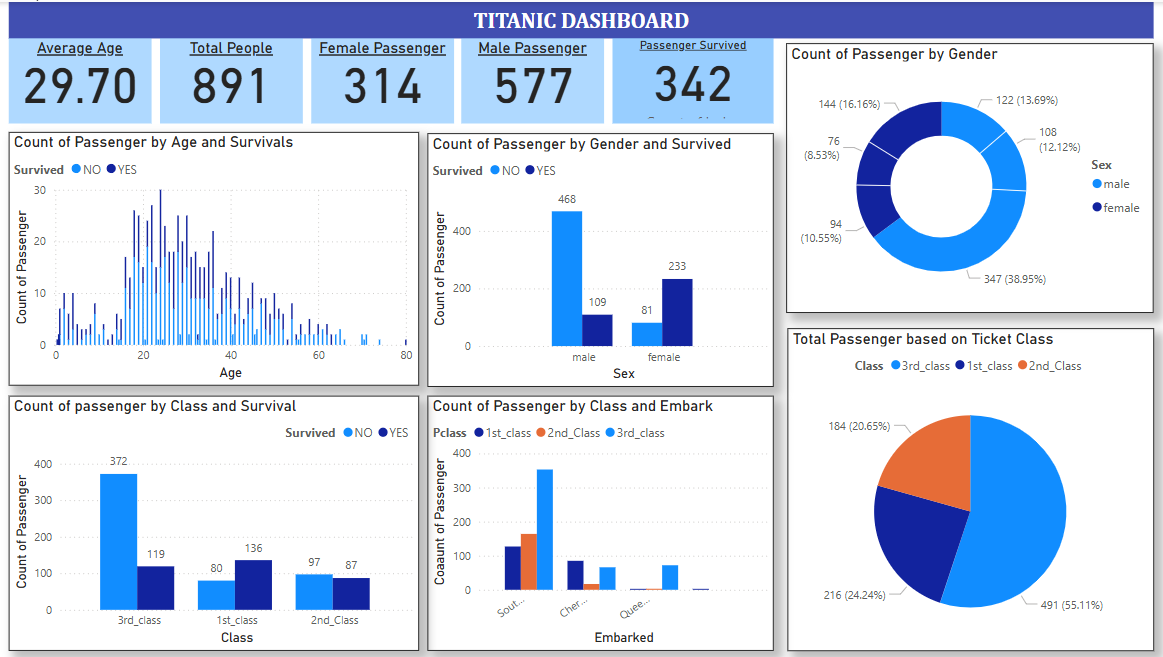

What the dashboard file says about the page in this screenshot:
{"tool":"powerbi","page":{"name":"Page 1","canvas":[1280,720],"ordinal":0},"visuals":[{"type":"textbox","box":[9.6,0,1257,39.8],"z":0},{"type":"card","title":"Average Age","fields":{"Values":["Avg(titanic.Age)"]},"box":[9.6,39.8,156.4,93.3],"z":1000},{"type":"card","title":"Total People","fields":{"Values":["CountNonNull(titanic.Index)"]},"box":[175.6,39.8,156.4,93.3],"z":2000},{"type":"card","title":"Female Passenger","fields":{"Values":["CountNonNull(titanic.Index)"]},"box":[341.7,39.8,156.4,93.3],"z":3000},{"type":"card","title":"Male Passenger","fields":{"Values":["CountNonNull(titanic.Index)"]},"box":[506.3,39.8,156.4,93.3],"z":4000},{"type":"card","title":"Passenger Survived","fields":{"Values":["CountNonNull(titanic.Index)"]},"box":[672.4,39.8,177,93.3],"z":5000},{"type":"pieChart","title":"Total Passenger based on Ticket Class","fields":{"Category":["titanic.Pclass"],"Y":["CountNonNull(titanic.Index)"]},"box":[864.5,358.1,402.1,354],"z":6000},{"type":"columnChart","title":"Count of Passenger by Age and Survivals","fields":{"Category":["titanic.Age"],"Y":["CountNonNull(titanic.Index)"],"Series":["titanic.Survived"]},"box":[9.6,142.7,450.1,278.6],"z":6002},{"type":"donutChart","title":"Count of Passenger by Gender","fields":{"Category":["titanic.Sex"],"Y":["CountNonNull(titanic.Index)"],"Series":["titanic.Pclass"]},"box":[863.1,45.3,403.4,296.4],"z":6003},{"type":"clusteredColumnChart","title":"Count of Passenger by Gender and Survived","fields":{"Category":["titanic.Sex"],"Y":["CountNonNull(titanic.Index)"],"Series":["titanic.Survived"]},"box":[469.3,144.1,380.1,278.6],"z":6004},{"type":"clusteredColumnChart","title":"Count of Passenger by Class and Embark","fields":{"Category":["titanic.Embarked"],"Y":["CountNonNull(titanic.Index)"],"Series":["titanic.Pclass"]},"box":[469.3,432.2,380.1,279.9],"z":6005},{"type":"clusteredColumnChart","title":"Count of passenger by Class and Survival","fields":{"Category":["titanic.Pclass"],"Y":["CountNonNull(titanic.Index)"],"Series":["titanic.Survived"]},"box":[9.6,432.2,450.1,279.9],"z":6006}]}

Visuals, with their boxes in screenshot pixels (x1, y1, x2, y2), scaled from the page's 1280x720 canvas onto the 1163x657 screenshot:
textbox: (9,0,1151,36)
"Average Age" card: (9,36,151,121)
"Total People" card: (160,36,302,121)
"Female Passenger" card: (310,36,453,121)
"Male Passenger" card: (460,36,602,121)
"Passenger Survived" card: (611,36,772,121)
"Total Passenger based on Ticket Class" pieChart: (785,327,1151,650)
"Count of Passenger by Age and Survivals" columnChart: (9,130,418,384)
"Count of Passenger by Gender" donutChart: (784,41,1151,312)
"Count of Passenger by Gender and Survived" clusteredColumnChart: (426,131,772,386)
"Count of Passenger by Class and Embark" clusteredColumnChart: (426,394,772,650)
"Count of passenger by Class and Survival" clusteredColumnChart: (9,394,418,650)
